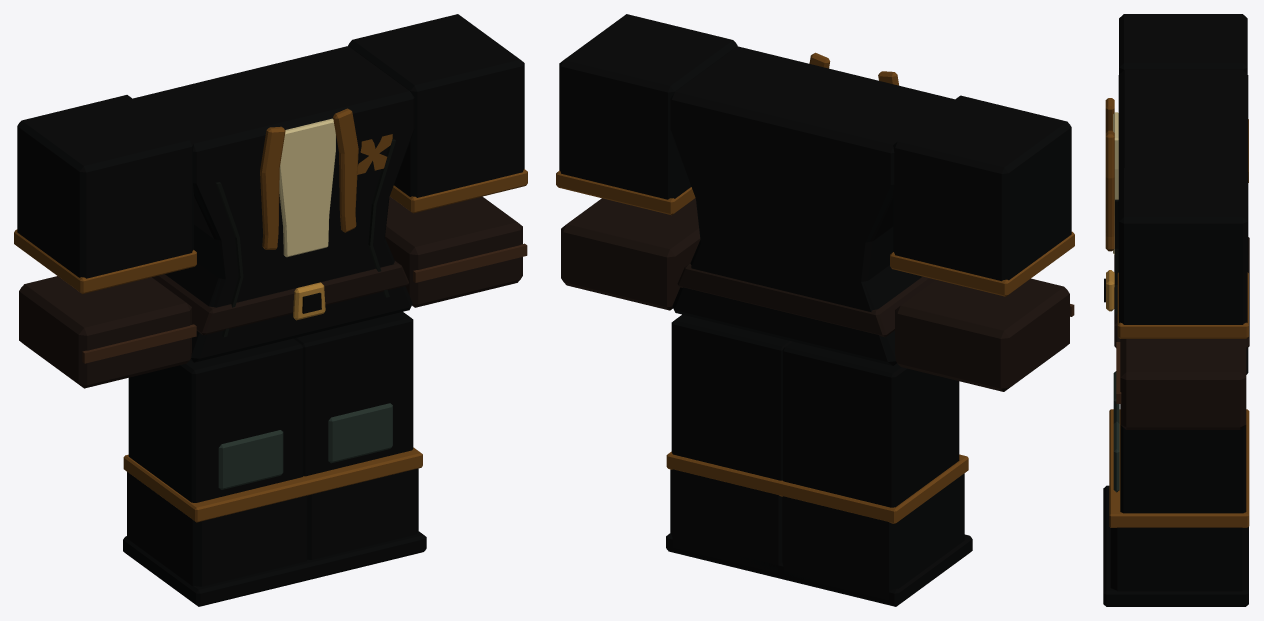
File: outfit-ink-knight-female-v1.gltf
3 views of the same model, side by side, from view 1: azimuth 30°, elevation 25°; view 2: azimuth 150°, elevation 25°; view 3: azimuth 270°, elevation 25° (orthographic). The views are drawn at different scales.
Visible parts, largest first — view 1: Torso.002, Left Arm.002, Left Leg.002, Right Arm.002, Right Leg.002; view 2: Torso.002, Left Arm.002, Left Leg.002, Right Arm.002, Right Leg.002; view 3: Right Arm.002, Right Leg.002, Torso.002, Left Arm.002, Left Leg.002.
Part boxes in pixels (<box>): Torso.002: <box>133,46,414,362</box>; Left Arm.002: <box>14,95,196,388</box>; Left Leg.002: <box>123,338,315,606</box>; Right Arm.002: <box>348,14,527,307</box>; Right Leg.002: <box>293,312,426,579</box>; Torso.002: <box>670,46,954,365</box>; Left Arm.002: <box>890,95,1074,391</box>; Left Leg.002: <box>777,341,972,606</box>; Right Arm.002: <box>556,14,737,310</box>; Right Leg.002: <box>666,314,792,579</box>; Right Arm.002: <box>1116,168,1248,429</box>; Right Leg.002: <box>1103,421,1249,606</box>; Torso.002: <box>1104,70,1249,374</box>; Left Arm.002: <box>1119,14,1248,182</box>; Left Leg.002: <box>1103,371,1249,538</box>.
Size of the model in its own units: 4.09 by 4.01 by 1.21.
Materials: 1 (1 with a texture image).
